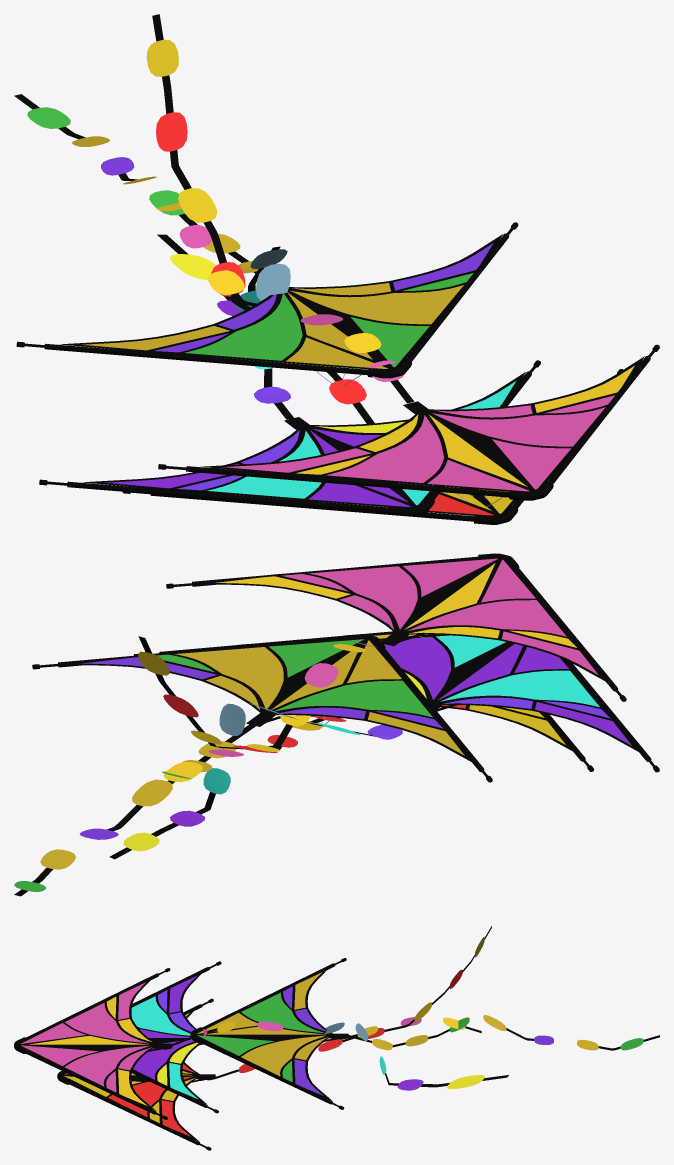
File: aquiloni3.fbx
The picture shows the model from 3 angles, top to bottom: view 1: azimuth 30°, elevation 25°; view 2: azimuth 150°, elevation 25°; view 3: azimuth 270°, elevation 25°; orthographic projection. The views are drawn at different scales.
Visible parts, largest first — view 1: polySurface11.002, polySurface11.001, pCube2.003, polySurface11.004; view 2: polySurface11.002, polySurface11.001, pCube2.003, polySurface11.004; view 3: polySurface11.001, polySurface11.002, pCube2.003, polySurface11.004.
Boxes of the visible parts, x1=… form: polySurface11.002: x1=156, y1=202, x2=659, y2=507; polySurface11.001: x1=14, y1=94, x2=518, y2=385; pCube2.003: x1=39, y1=234, x2=540, y2=516; polySurface11.004: x1=122, y1=14, x2=623, y2=524; polySurface11.002: x1=164, y1=553, x2=626, y2=783; polySurface11.001: x1=14, y1=634, x2=492, y2=896; pCube2.003: x1=109, y1=634, x2=659, y2=859; polySurface11.004: x1=133, y1=631, x2=594, y2=771; polySurface11.001: x1=190, y1=958, x2=659, y2=1109; polySurface11.002: x1=14, y1=968, x2=481, y2=1119; pCube2.003: x1=131, y1=961, x2=508, y2=1113; polySurface11.004: x1=57, y1=926, x2=491, y2=1150.
Bounding box in the file's own units: 14008 × 6340 × 21987.
